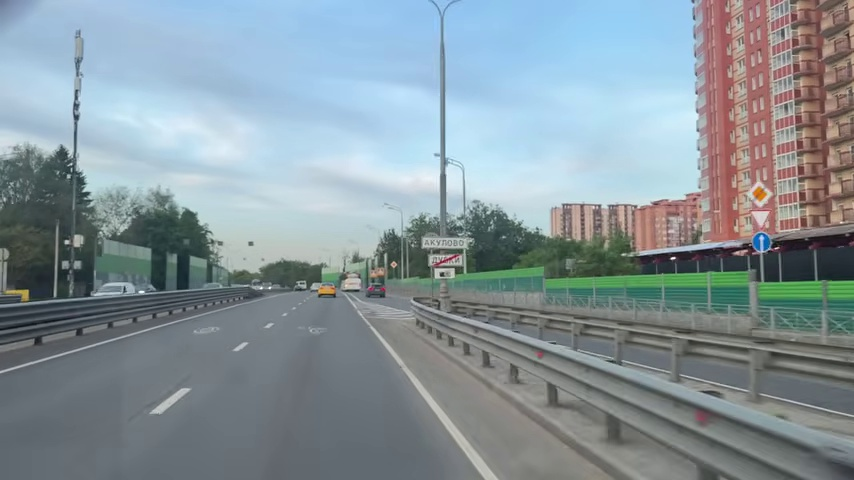apagada: (152, 385, 191, 417)
